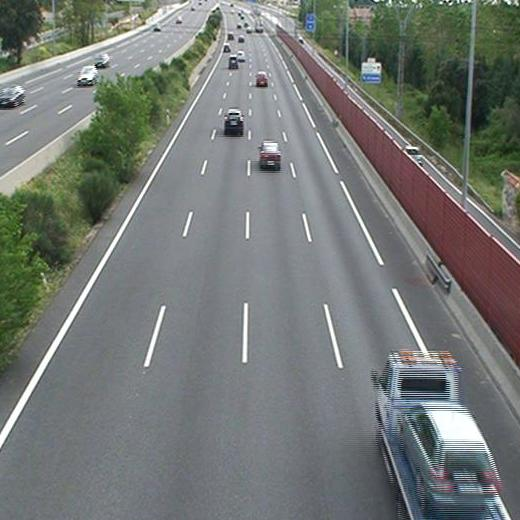car: (400, 405, 496, 501), (260, 142, 281, 165), (224, 110, 243, 129), (255, 71, 268, 85), (235, 51, 245, 62), (228, 56, 237, 67), (223, 43, 232, 52)
small-truck: (376, 352, 494, 520)
